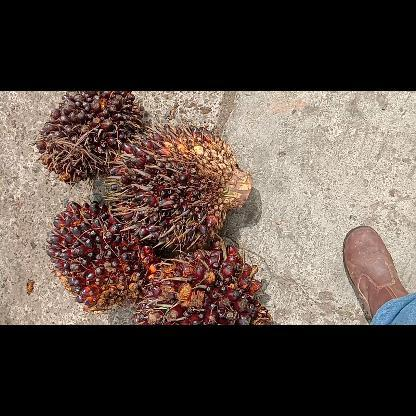Kurang masak: (108, 117, 254, 255), (44, 198, 162, 316), (131, 240, 273, 324), (30, 91, 148, 189)
